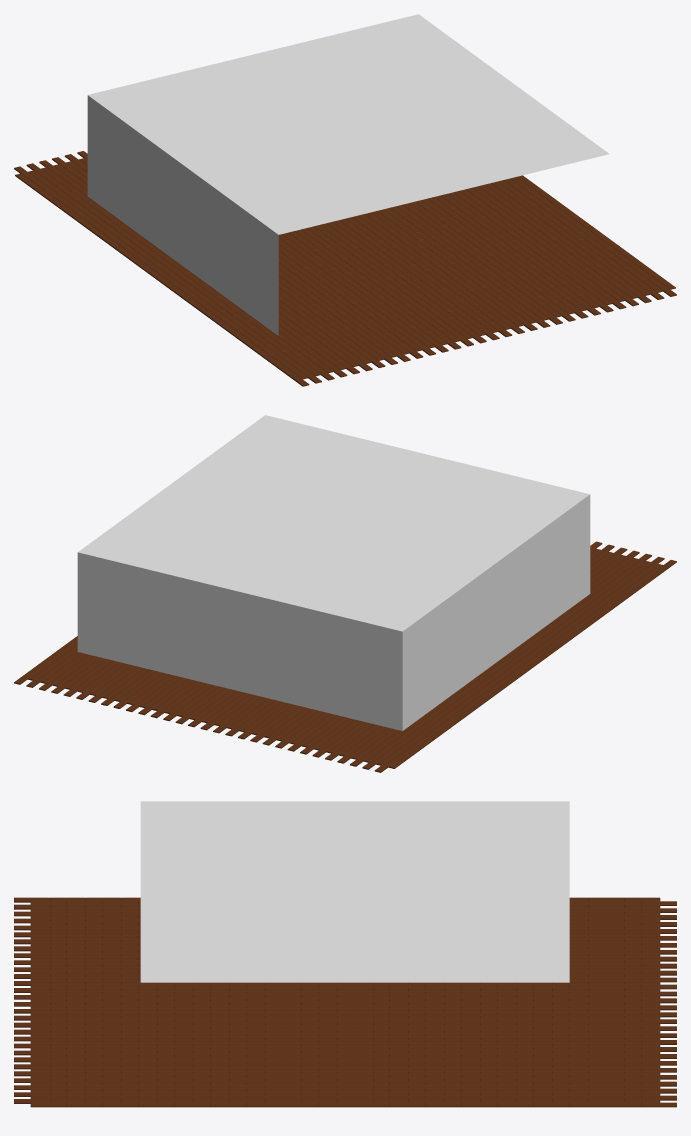
File: desk.fbx
The picture shows the model from 3 angles, top to bottom: view 1: azimuth 30°, elevation 25°; view 2: azimuth 150°, elevation 25°; view 3: azimuth 270°, elevation 25°; orthographic projection. The views are drawn at different scales.
Parts seen in each view (by area): view 1: Cube.006, Cube.005; view 2: Cube.006, Cube.005; view 3: Cube.005, Cube.006.
Boxes of the visible parts, x1,y1,x2,y2 form: Cube.006: (87, 14, 609, 335); Cube.005: (14, 151, 676, 386); Cube.006: (77, 415, 590, 730); Cube.005: (14, 541, 676, 772); Cube.005: (14, 897, 676, 1107); Cube.006: (140, 801, 569, 982).
Size of the model in its own units: 2689 by 836 by 3616.
